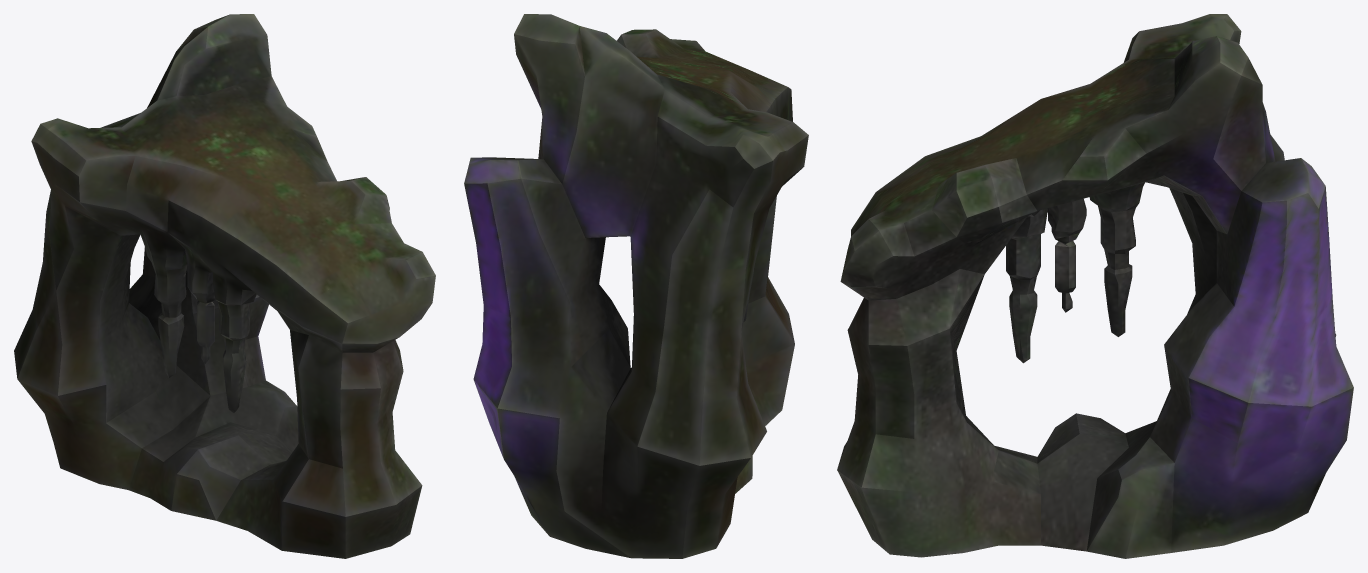
Rendered from BGEAssetsS3.fbx.
The picture shows the model from 3 angles, left to right: view 1: azimuth 30°, elevation 25°; view 2: azimuth 150°, elevation 25°; view 3: azimuth 270°, elevation 25°; orthographic projection. The views are drawn at different scales.
Visible parts, largest first — view 1: BGEAsset.012; view 2: BGEAsset.012; view 3: BGEAsset.012.
Part boxes in pixels (<box>): BGEAsset.012: <box>14,14,435,558</box>; BGEAsset.012: <box>464,14,808,558</box>; BGEAsset.012: <box>837,14,1353,558</box>.
Size of the model in its own units: 11.83 by 19.38 by 18.5.
Materials: 1 (1 with a texture image).
